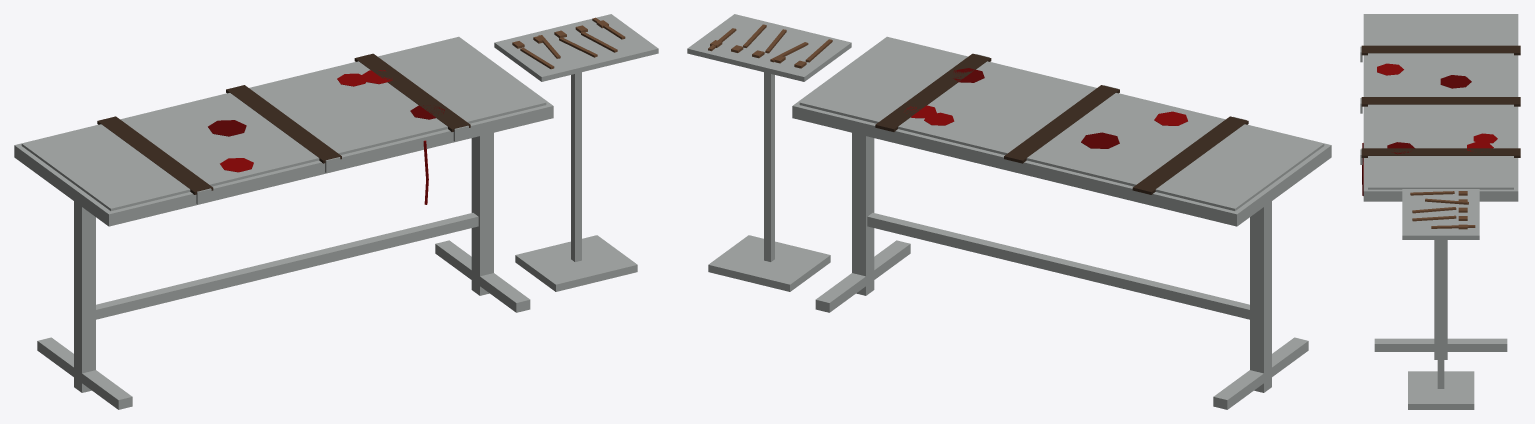
The model's file is surgical_table.glb.
3 renders of one model, left to right at view 1: azimuth 30°, elevation 25°; view 2: azimuth 150°, elevation 25°; view 3: azimuth 270°, elevation 25°, orthographic. The views are drawn at different scales.
Visible parts, largest first — view 1: surgical_table; view 2: surgical_table; view 3: surgical_table.
Boxes of the visible parts, box(x1,y1,x2,y2) form: surgical_table: box(14, 14, 658, 409); surgical_table: box(687, 14, 1331, 409); surgical_table: box(1360, 14, 1520, 409).
Bounding box in the file's own units: 2.45 × 0.922 × 0.725.
